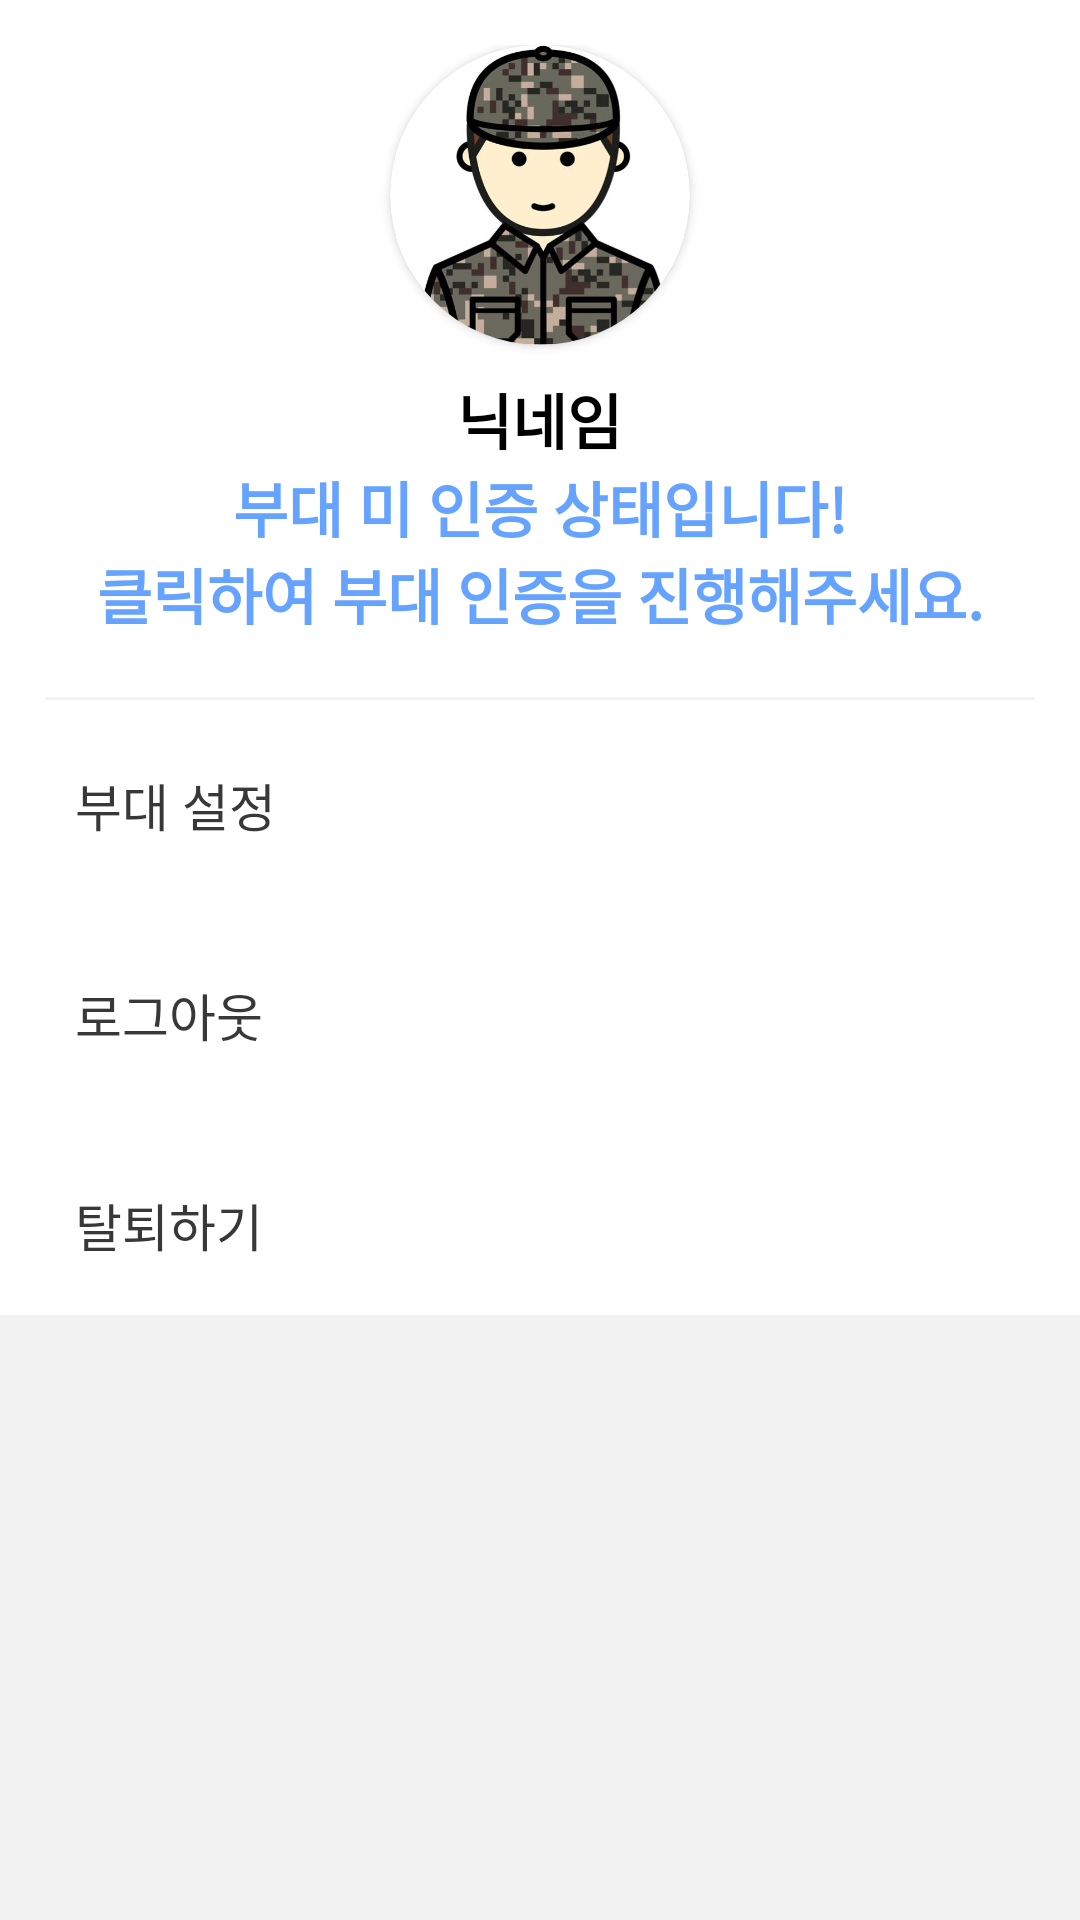

Where icons sit on this 1080px x 1920px app screen, as (x1, y1, x2, y2):
profile: (424, 45, 661, 345)
